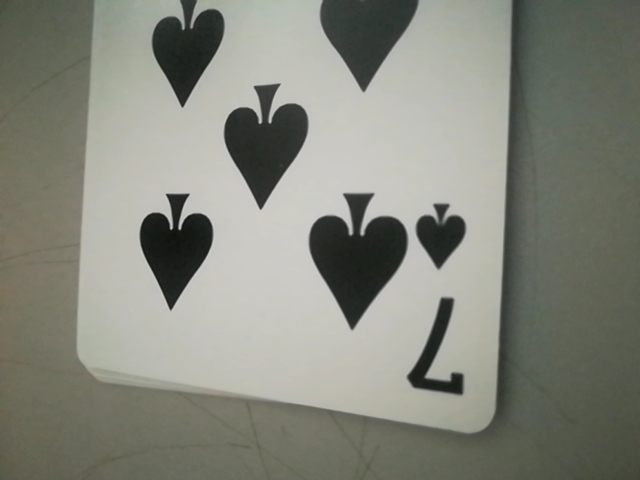ht 7: (405, 204, 467, 395)
